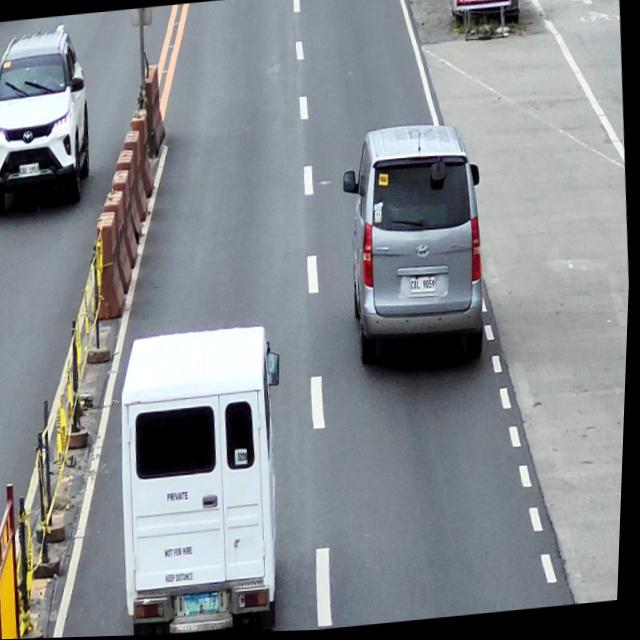Car: (108, 324, 301, 637), (335, 120, 496, 379), (0, 25, 99, 217)
License-Plate: (187, 593, 223, 618), (411, 278, 438, 296), (20, 163, 41, 177)
